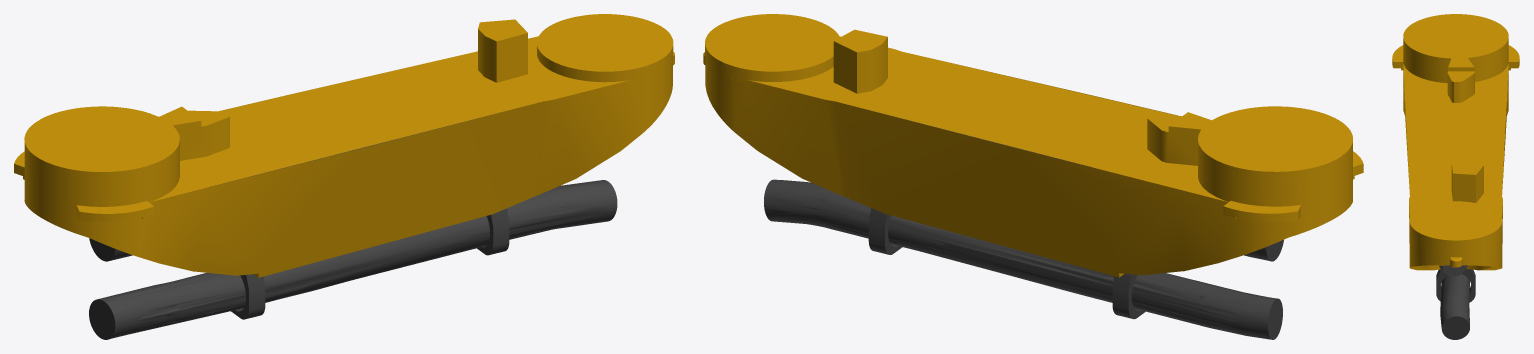
The picture shows the model from 3 angles, left to right: view 1: azimuth 30°, elevation 25°; view 2: azimuth 150°, elevation 25°; view 3: azimuth 270°, elevation 25°; orthographic projection. The views are drawn at different scales.
Visible parts, largest first — view 1: Link-2; view 2: Link-2; view 3: Link-2.
Part boxes in pixels (left/top/right/bottom): Link-2: left=14, top=14, right=674, bottom=339; Link-2: left=703, top=14, right=1363, bottom=339; Link-2: left=1392, top=14, right=1519, bottom=339.
Size of the model in its own units: 0.8637 by 0.2194 by 0.2734.
